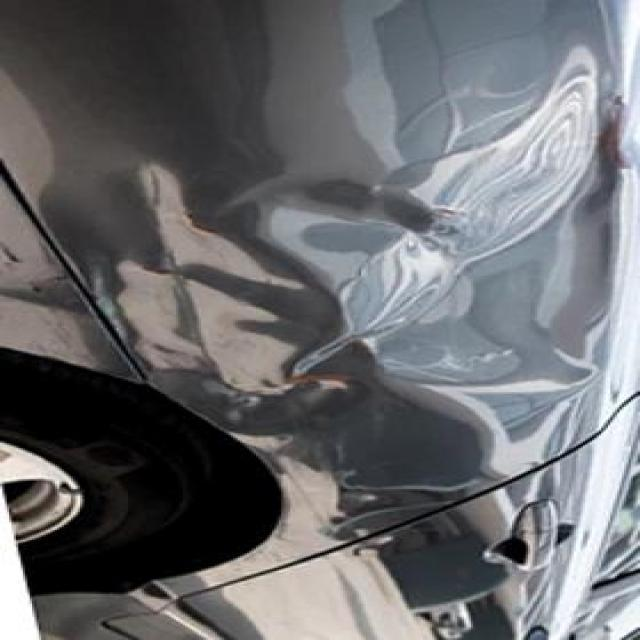dent: (190, 106, 636, 468)
